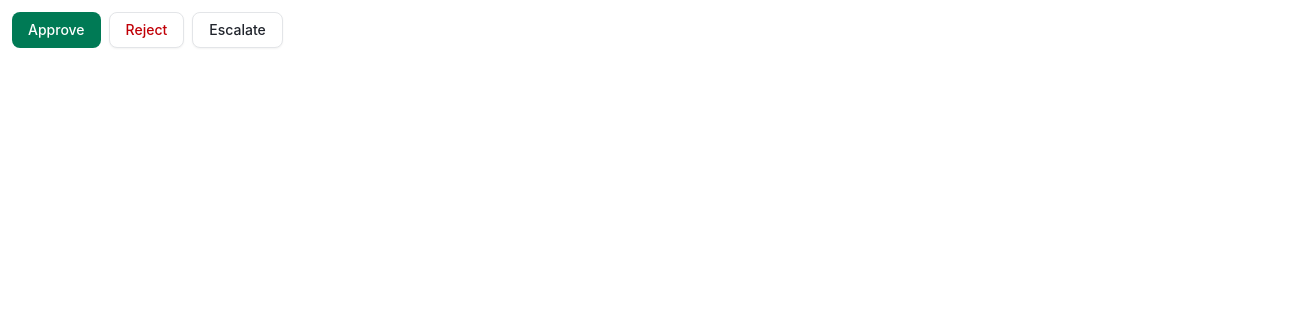
Test: approver decision panel › escalates to the chosen approver with a reason
The width and height of the screenshot is (1292, 309).
Later steps or results of the test are not shown.
Step 1. Click the button "Escalate" → click(238, 30), box [192,12,283,48]
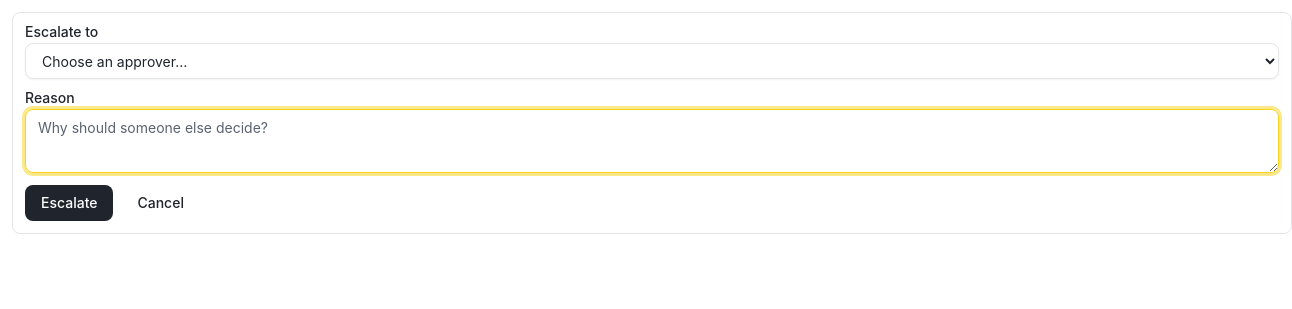
Step 2. Click the button "Escalate" → click(69, 203), box [25,185,114,221]
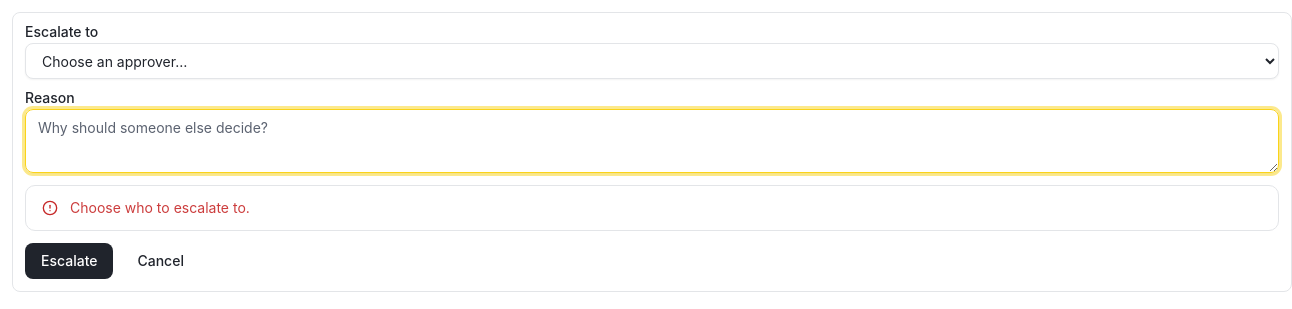
expect the text "Choose who to escalate to." is shown: met, box [70,199,250,216]
